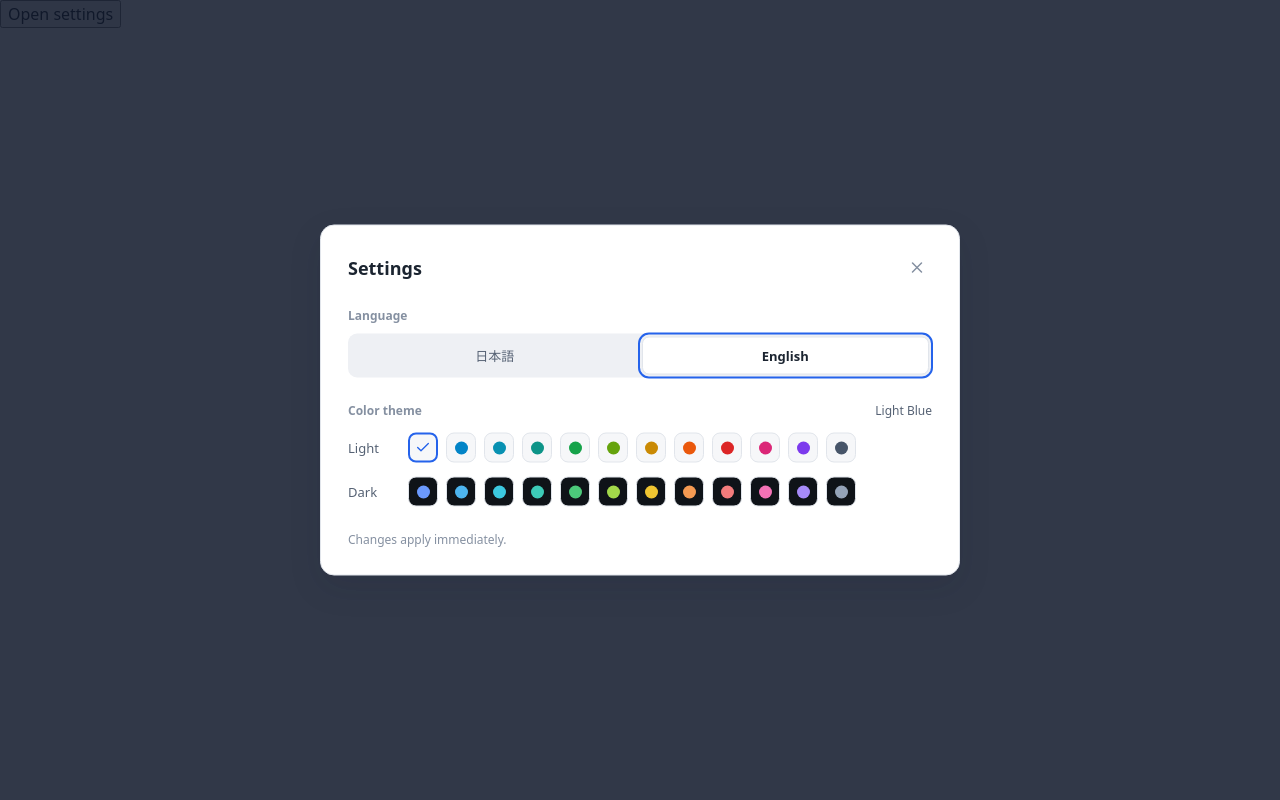
Test: SettingsDialog content › uses Japanese names and labels after the language changes
The image size is (1280, 800).
What coordinates should you click on to do the following:
click the radio button labelled "日本語"
I would click on:
 (495, 356)
Its box is [351,336,638,374].
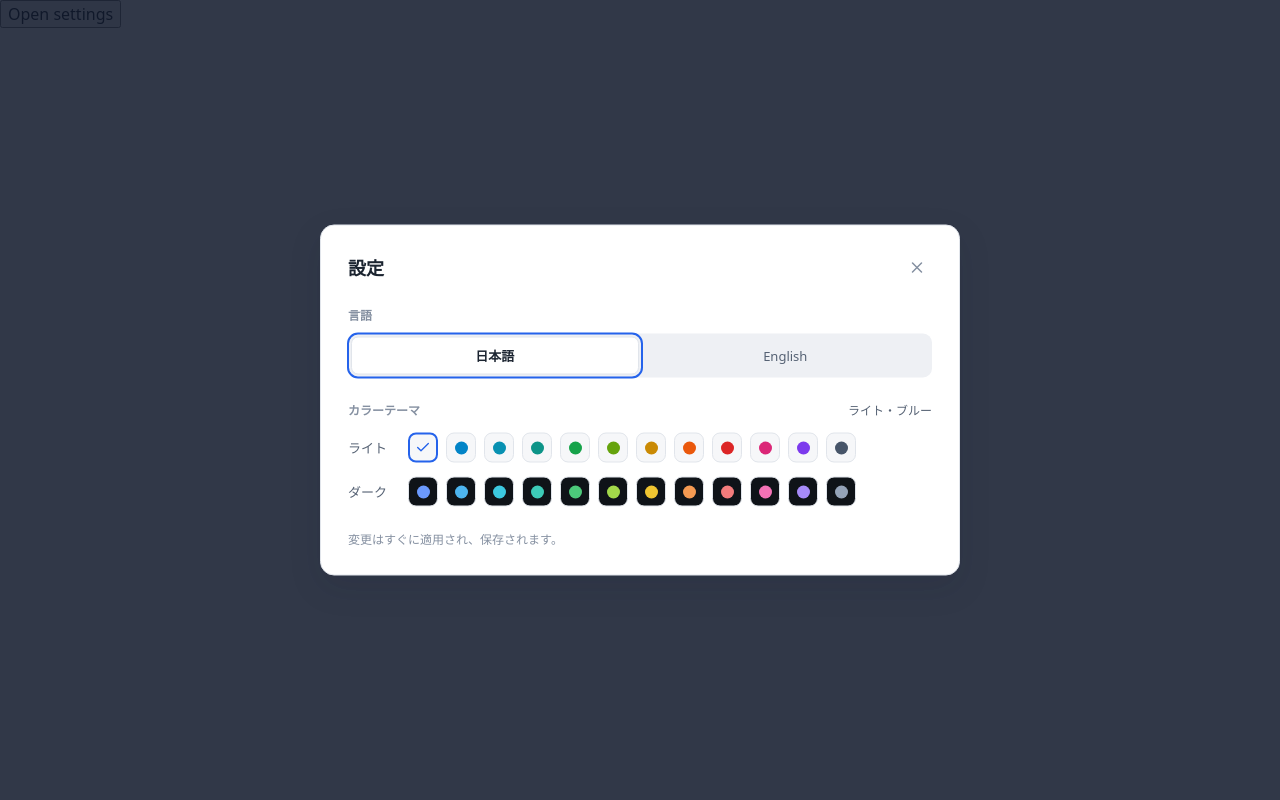
Check: the element named "カラーテーマ" is shown, box [348,432,932,506]
Check: the text "変更はすぐに適用され、保存されます。" is shown, box [348,530,563,548]
